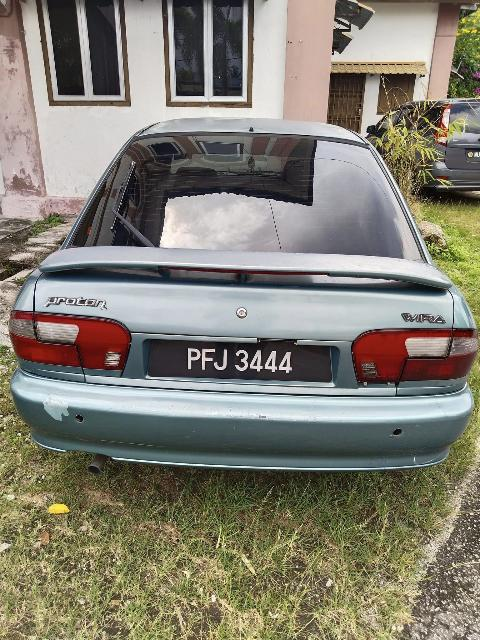License_Plate: (161, 336, 330, 388)
car: (2, 108, 467, 481)
